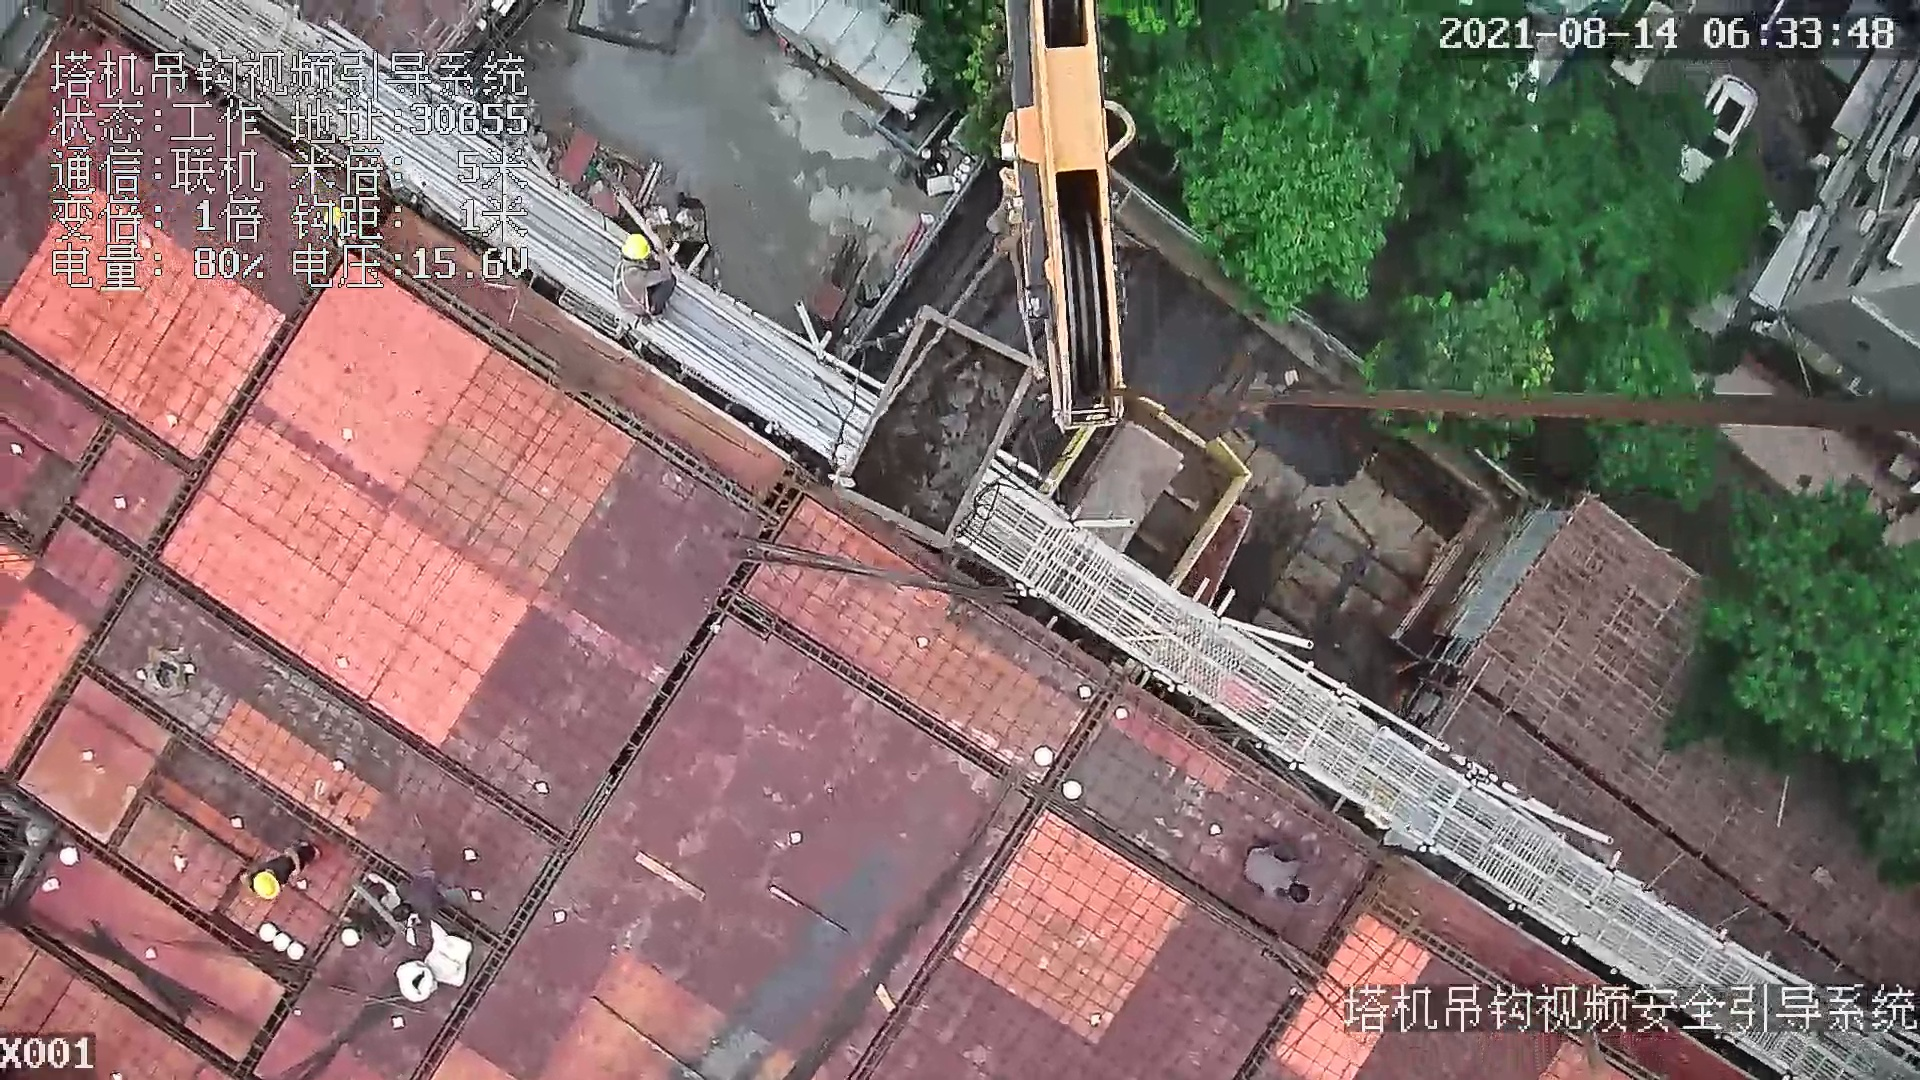helmet: (618, 231, 658, 268), (250, 873, 285, 900)
hook: (994, 3, 1137, 431)
hopper: (849, 289, 1042, 564)
person: (592, 226, 688, 327), (1237, 839, 1317, 910), (256, 846, 320, 905)
